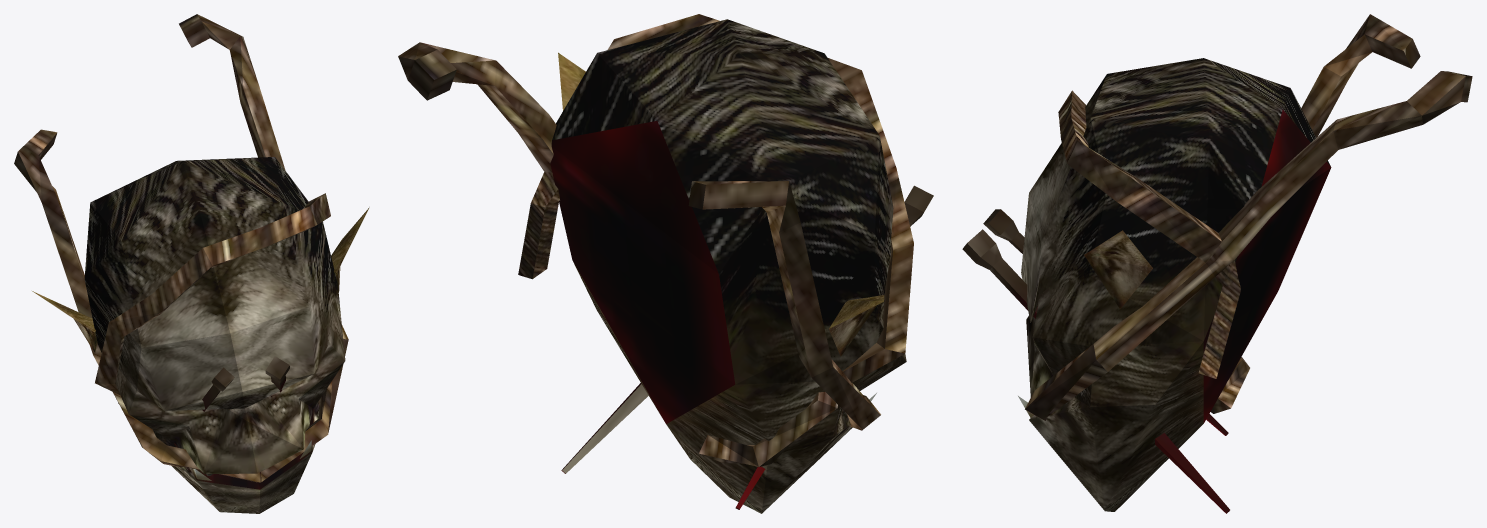
File: STATIC_GLOWAORK.glb
The picture shows the model from 3 angles, left to right: view 1: azimuth 30°, elevation 25°; view 2: azimuth 150°, elevation 25°; view 3: azimuth 270°, elevation 25°; orthographic projection. The views are drawn at different scales.
Parts seen in each view (by area): view 1: STATIC_GLOWAORK; view 2: STATIC_GLOWAORK; view 3: STATIC_GLOWAORK.
Boxes of the visible parts, x1=… form: STATIC_GLOWAORK: x1=14, y1=14, x2=369, y2=513; STATIC_GLOWAORK: x1=398, y1=14, x2=933, y2=513; STATIC_GLOWAORK: x1=962, y1=14, x2=1472, y2=513.
Size of the model in its own units: 0.3616 by 0.4701 by 0.4486.
2 materials, 2 textured.
